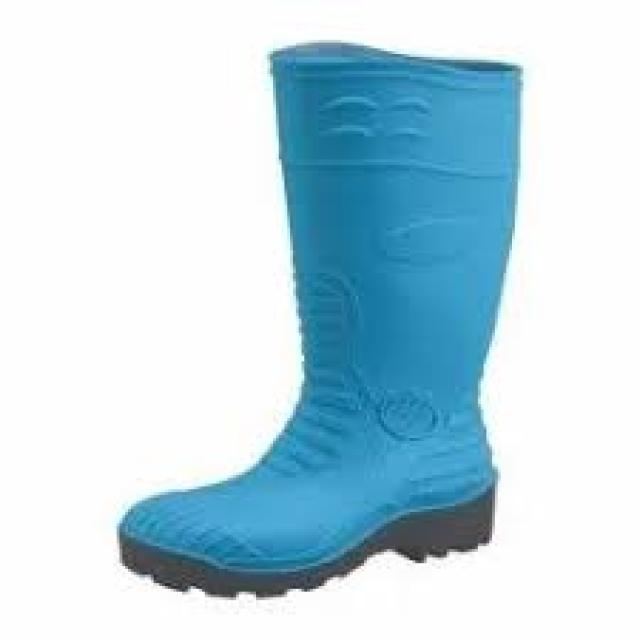shoes: (120, 44, 516, 594)
